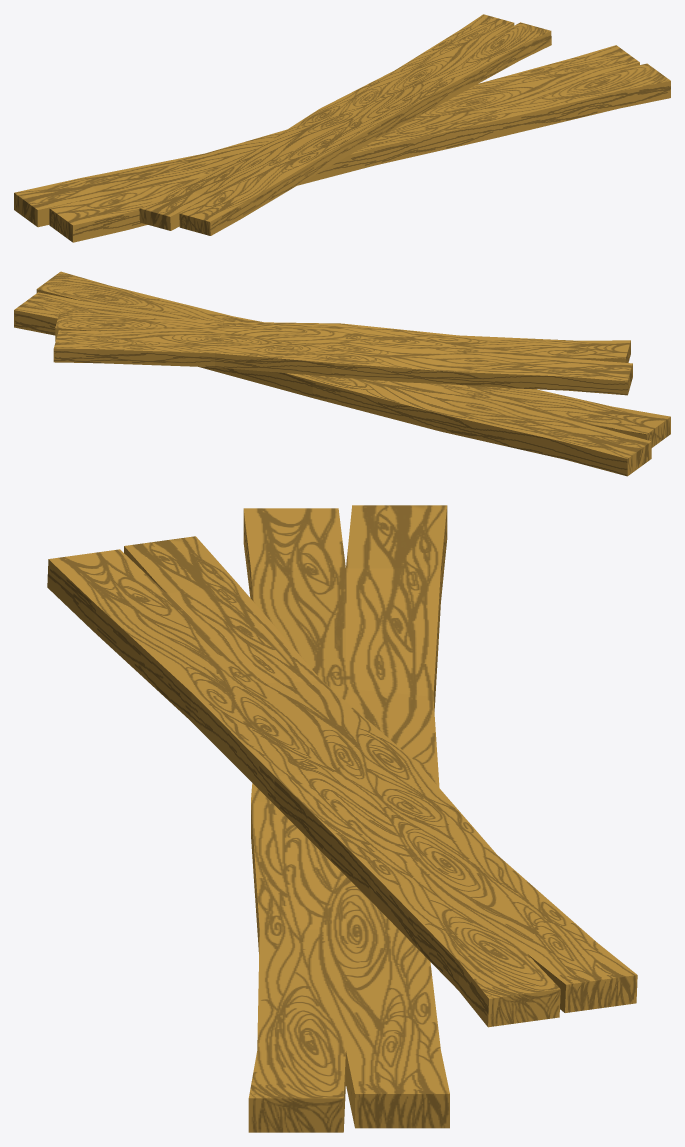
File: boards.fbx
3 views of the same model, one above another, from view 1: azimuth 30°, elevation 25°; view 2: azimuth 150°, elevation 25°; view 3: azimuth 270°, elevation 25° (orthographic). The views are drawn at different scales.
Parts seen in each view (by area): view 1: Cube, Cube.001; view 2: Cube.001, Cube; view 3: Cube.001, Cube.
Boxes of the visible parts, x1,y1,x2,y2 form: Cube: [14, 45, 670, 242]; Cube.001: [139, 14, 551, 235]; Cube.001: [53, 310, 632, 395]; Cube: [14, 271, 670, 476]; Cube.001: [47, 536, 637, 1027]; Cube: [243, 505, 449, 1132].
Bounding box in the file's own units: 738 × 51.11 × 311.
